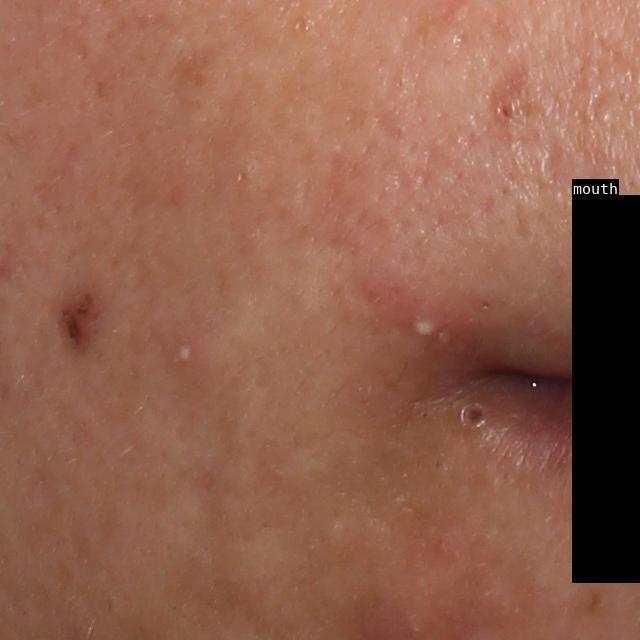comedo: (453, 393, 500, 439), (492, 94, 523, 127)
hypertrophic_scar: (214, 529, 302, 628)
nevus: (41, 277, 116, 366)
pustule: (167, 331, 200, 372), (407, 314, 440, 343)
